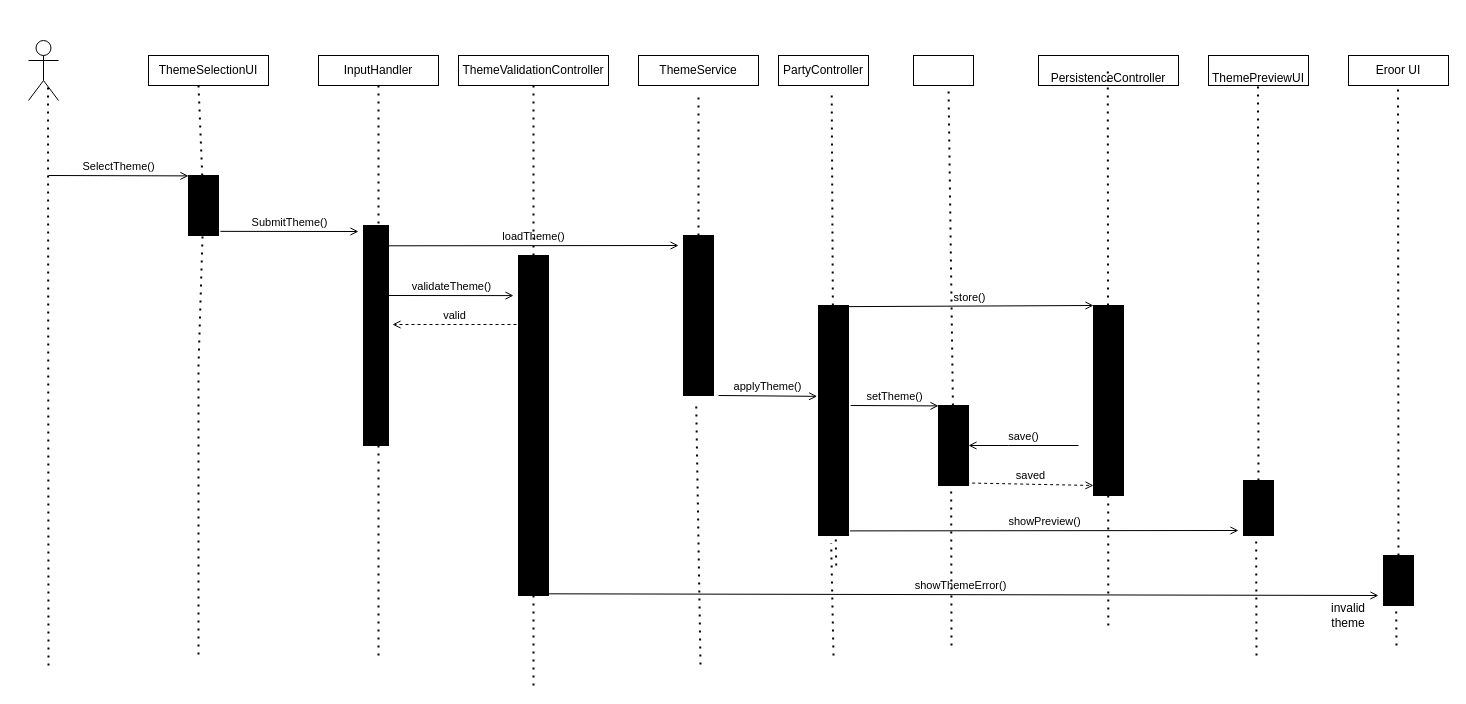
Some shapes in this 1466 by 704 pixel diagram are drawn without their labels. The centre of each missing label's shape, as x and y in pixels:
Party: (x=943, y=70)
PartyHost: (x=43, y=70)
